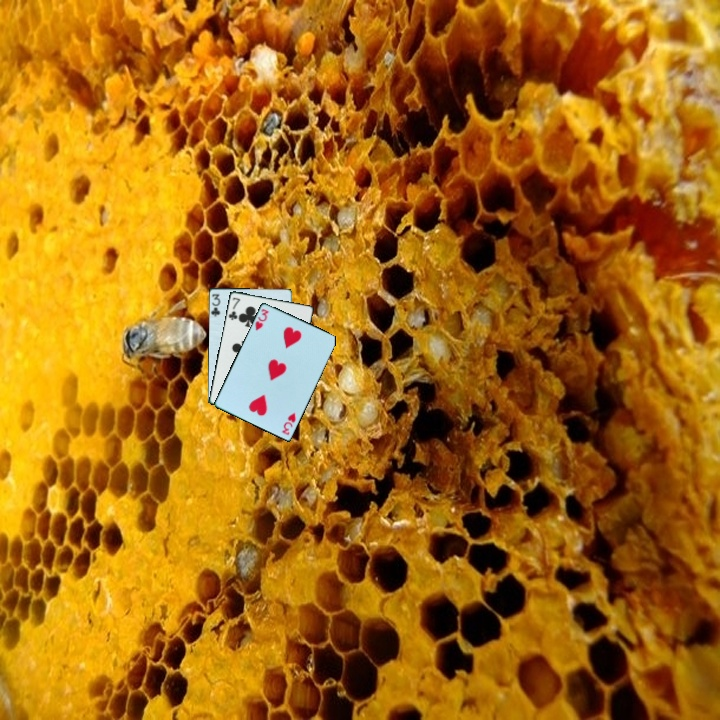3c: (207, 290, 223, 319)
3h: (251, 305, 272, 333), (278, 409, 298, 438)
7c: (225, 294, 243, 323)
